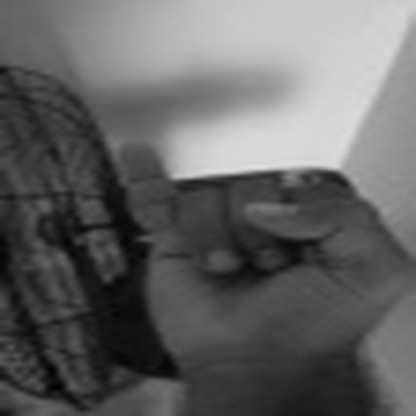i: (104, 126, 403, 379)
